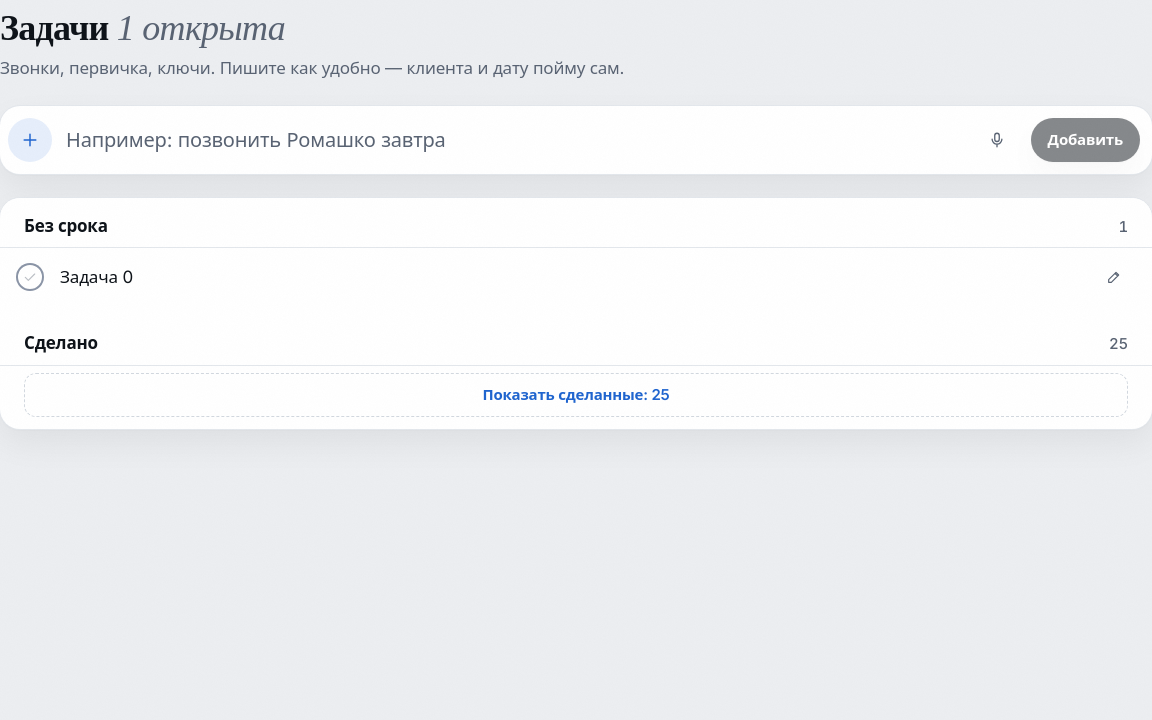
Test case: «Задачи»: сделанные › без флага — 20 последних и подпись «Ещё 5 сделанных — в таблице», кнопки нет
Step 1. Click the button "Показать сделанные: 25" → [576, 395], box [24,373,1128,417]
(page scrolled)
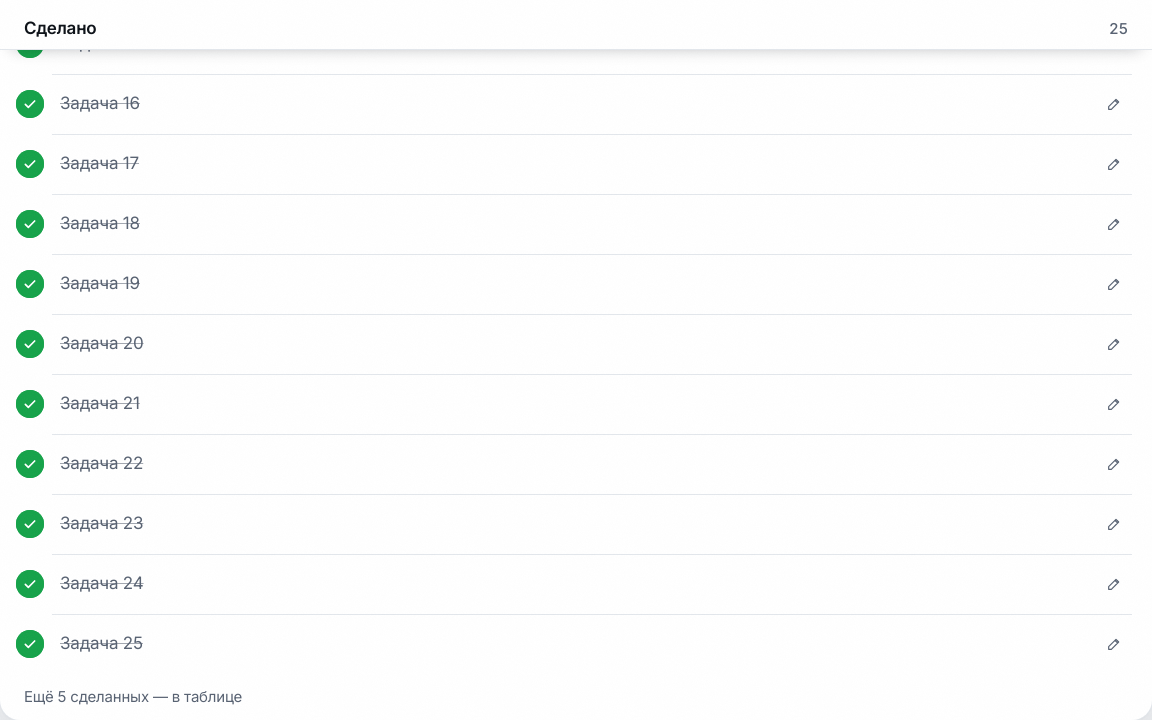
Expected: the text with class "tasks__more" reads "Ещё 5 сделанных — в таблице", [24,687,242,706]
